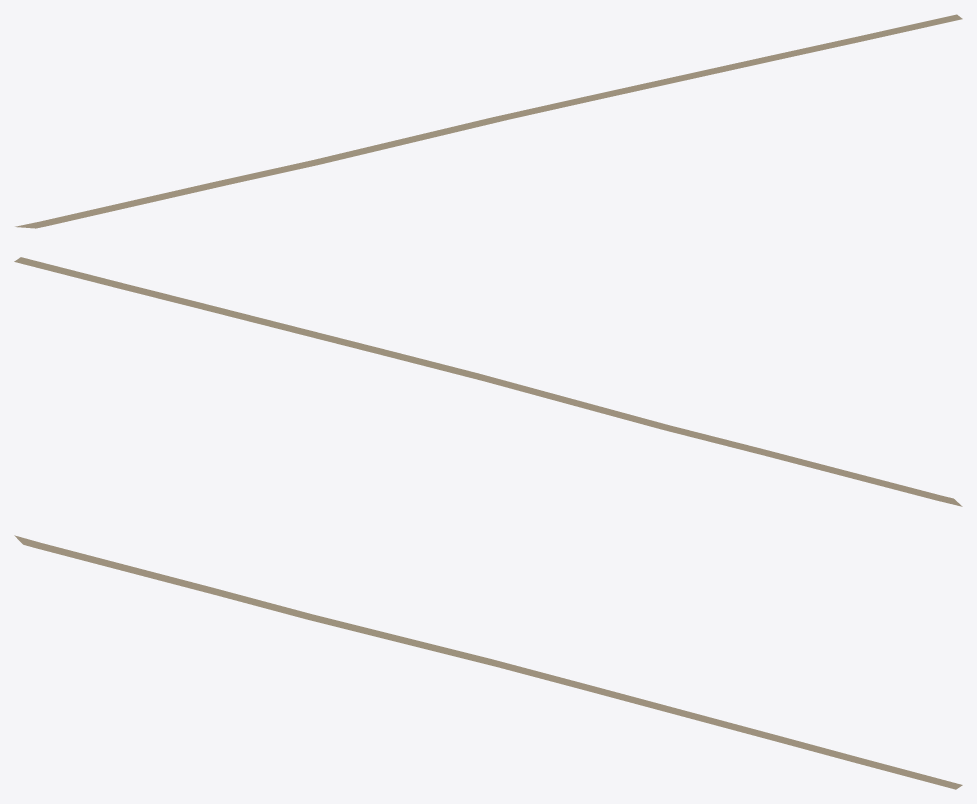
The model's file is farm_8_12_track.glb.
The picture shows the model from 3 angles, top to bottom: view 1: azimuth 30°, elevation 25°; view 2: azimuth 150°, elevation 25°; view 3: azimuth 330°, elevation 25°; orthographic projection. The views are drawn at different scales.
Visible parts, largest first — view 1: geometry_0; view 2: geometry_0; view 3: geometry_0.
Part boxes in pixels (x1,y1,x2,y2): geometry_0: (15, 14, 962, 228); geometry_0: (14, 257, 962, 506); geometry_0: (14, 535, 962, 789).
Bounding box in the file's own units: 277 × 0.8383 × 11.38.
